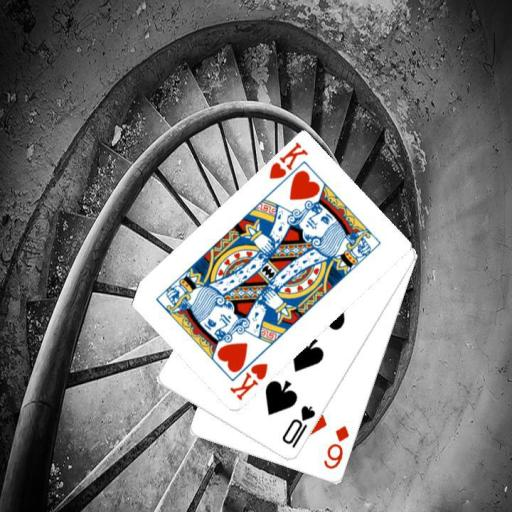10S: (279, 403, 317, 450)
6D: (320, 423, 351, 472)
KH: (265, 140, 310, 182), (226, 360, 270, 402)
